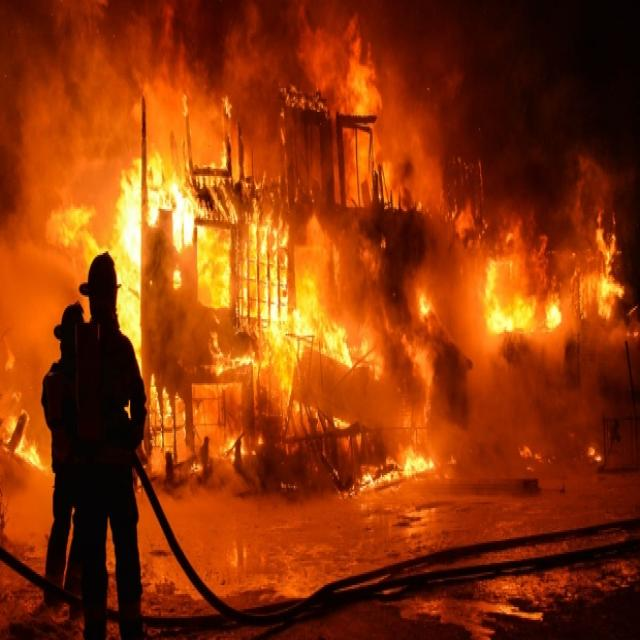fire: (79, 100, 628, 506)
